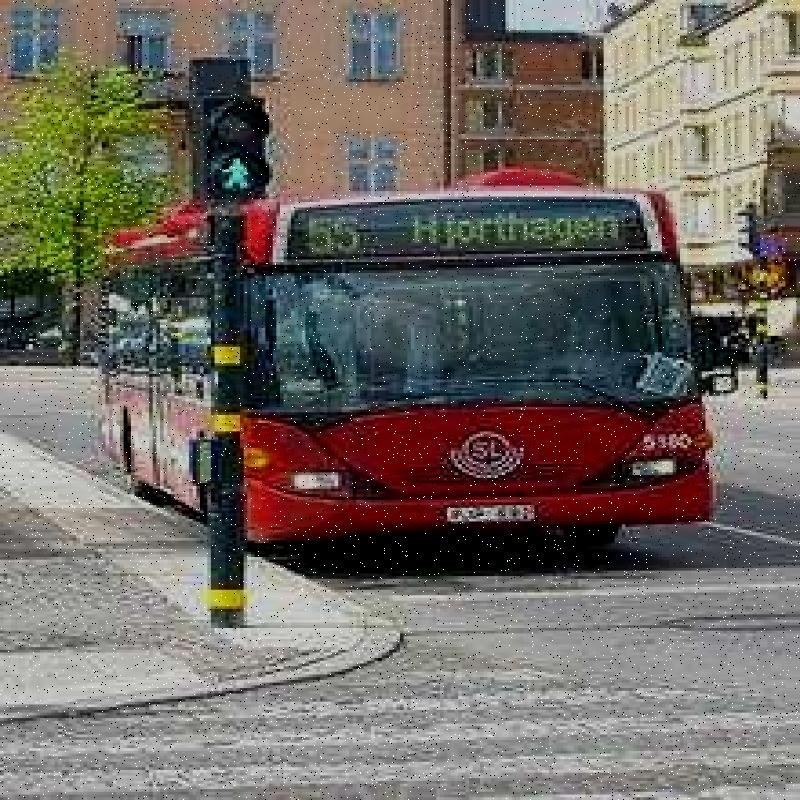bus: (87, 157, 741, 586)
